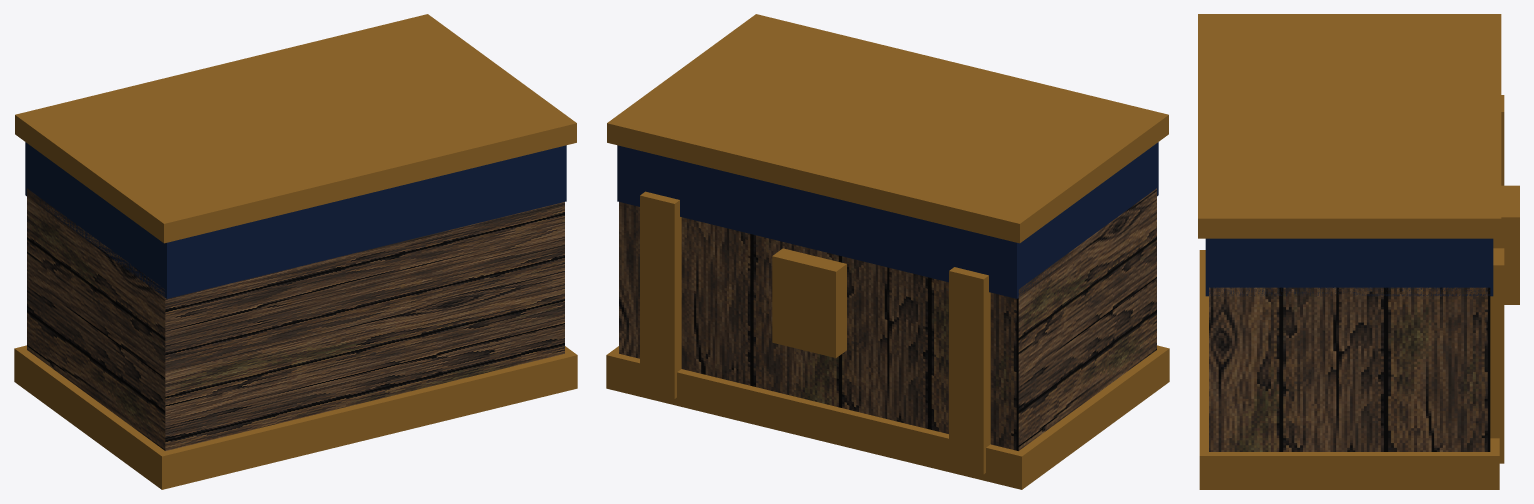
The model's file is C07_Bau_Deluxe.obj.
The picture shows the model from 3 angles, left to right: view 1: azimuth 30°, elevation 25°; view 2: azimuth 150°, elevation 25°; view 3: azimuth 270°, elevation 25°; orthographic projection.
Visible parts, largest first — view 1: C07_Bau_Deluxe; view 2: C07_Bau_Deluxe; view 3: C07_Bau_Deluxe.
Boxes of the visible parts, <box> form: C07_Bau_Deluxe: <box>14,14,577,489</box>; C07_Bau_Deluxe: <box>606,14,1169,489</box>; C07_Bau_Deluxe: <box>1198,14,1519,489</box>.
Bounding box in the file's own units: 1.56 × 0.955 × 1.03.
Materials: 3 (1 with a texture image).
